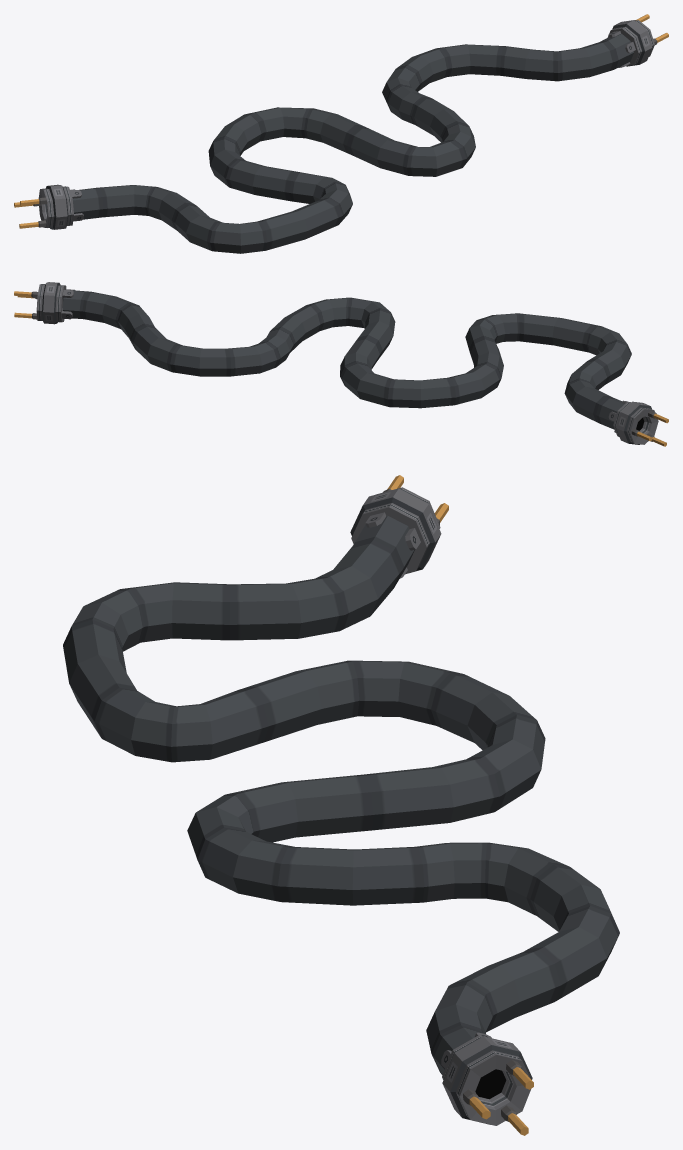
Rendered from SM_Prop_SciFiCable_01.fbx.
3 renders of one model, top to bottom at view 1: azimuth 30°, elevation 25°; view 2: azimuth 150°, elevation 25°; view 3: azimuth 270°, elevation 25°, orthographic. The views are drawn at different scales.
Visible parts, largest first — view 1: SM_Prop_SciFiCable_01; view 2: SM_Prop_SciFiCable_01; view 3: SM_Prop_SciFiCable_01.
Part boxes in pixels (x1,y1,x2,y2): SM_Prop_SciFiCable_01: (14,14,668,253); SM_Prop_SciFiCable_01: (14,282,668,446); SM_Prop_SciFiCable_01: (63,475,619,1135).
Size of the model in its own units: 536 by 32.65 by 206.
Materials: 1 (1 with a texture image).
